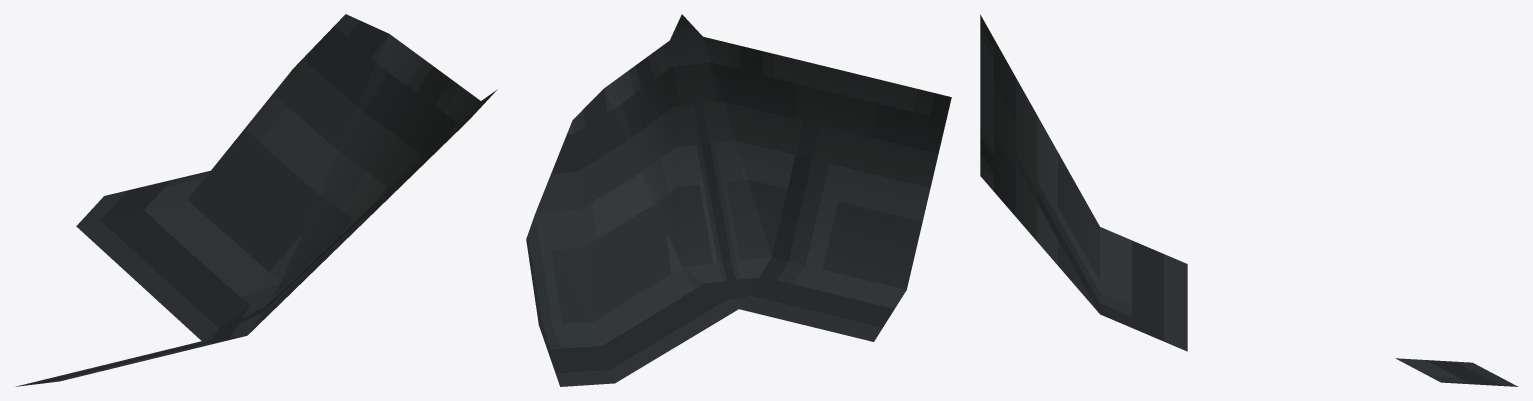
3 views of the same model, side by side, from view 1: azimuth 30°, elevation 25°; view 2: azimuth 150°, elevation 25°; view 3: azimuth 270°, elevation 25° (orthographic). The views are drawn at different scales.
Bounding box in the file's own units: 1 × 0.7268 × 1.3.
2 materials, 2 textured.
